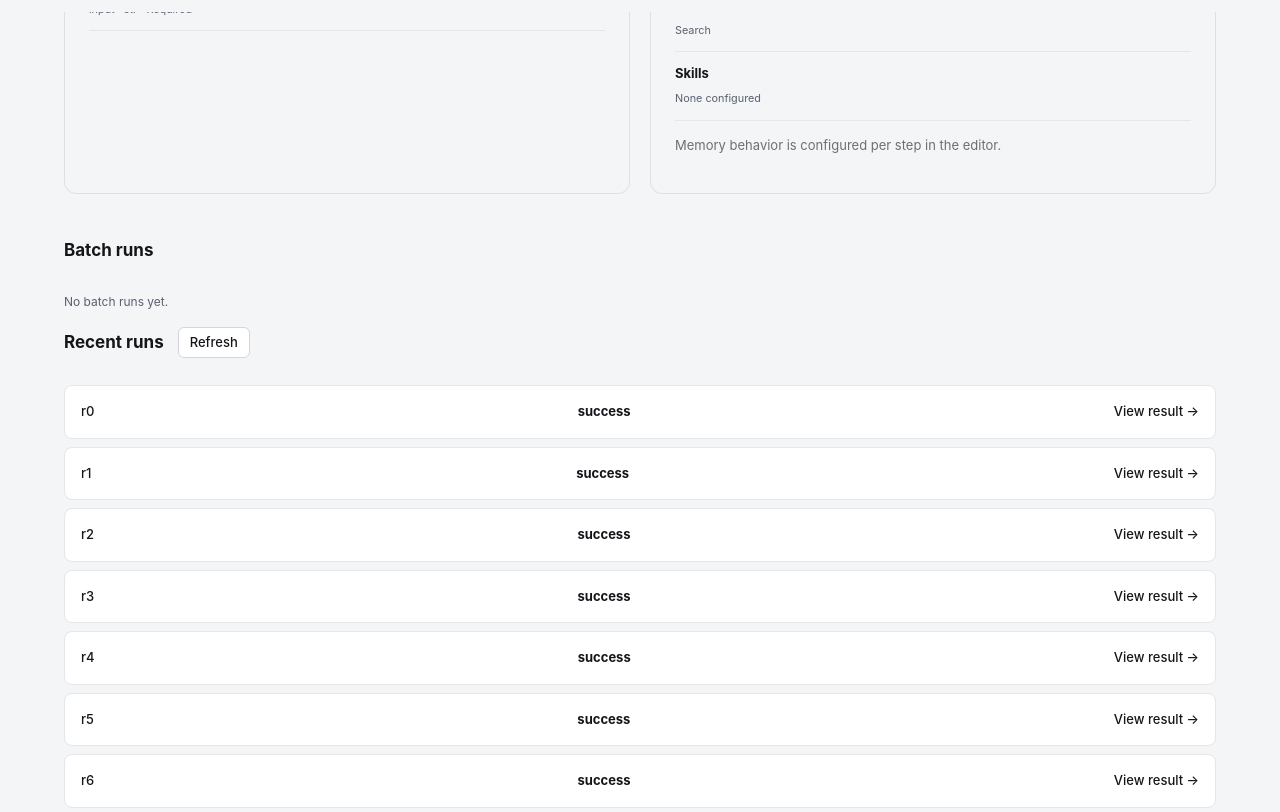
Test: loads more runs and searches all of them on the server
(page scrolled)
Click the 1st text "View result →" at (1156, 412), box [1114,402,1199,422]
(page scrolled)
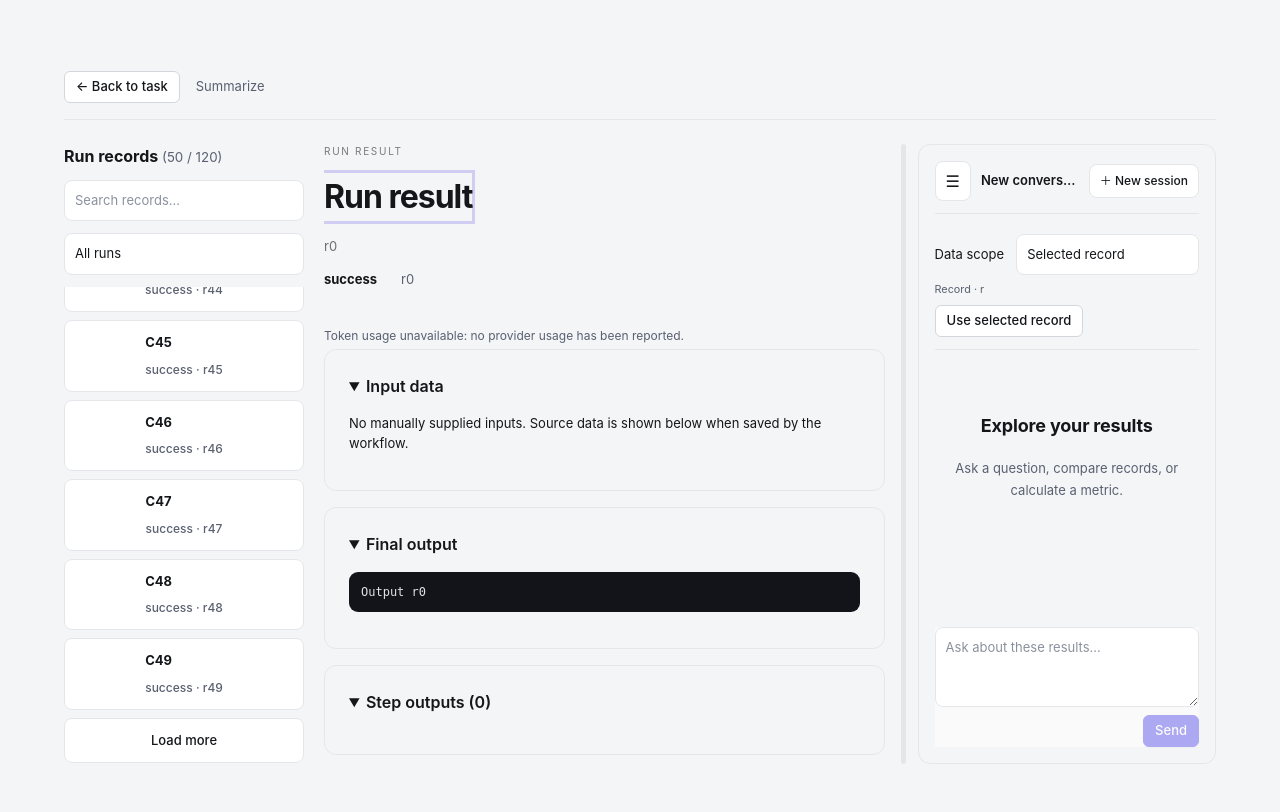
Result: the text "(50 / 120)" is shown at [162,148,222,164]
Click the button "Load more" at (184, 740), box [64,718,304,763]
(page scrolled)
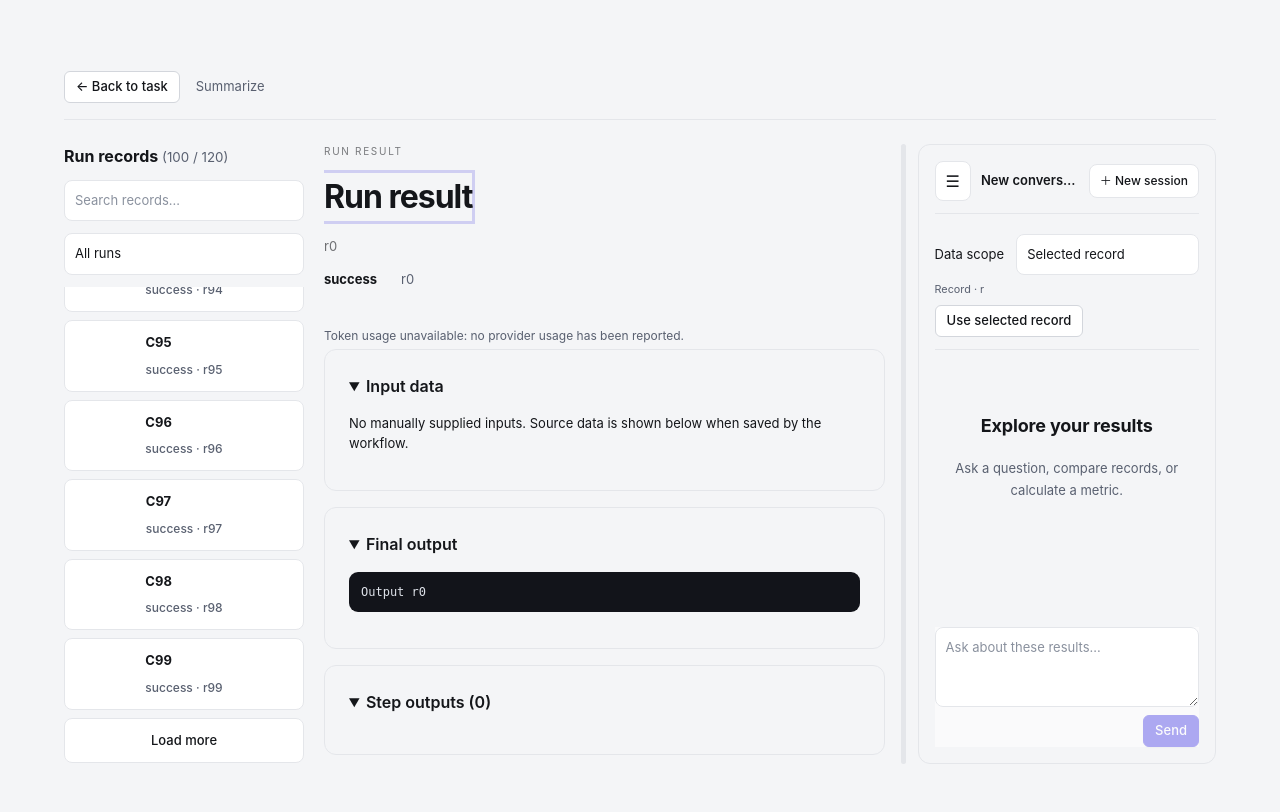
Result: the text "(100 / 120)" is shown at [162,148,228,164]
Click the button "Load more" at (184, 740), box [64,718,304,763]
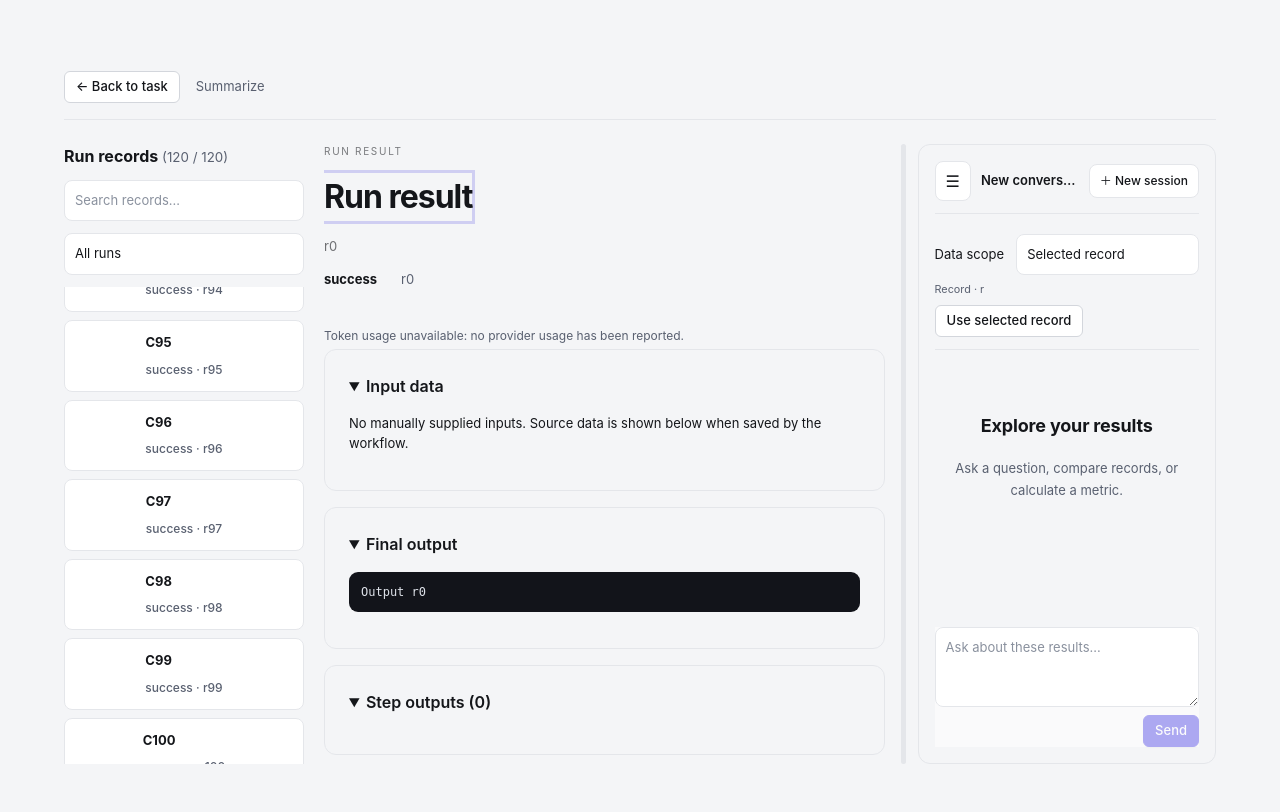
Result: the text "(120 / 120)" is shown at [162,148,228,164]
Result: the button "Load more" is gone
Not among the first page, found by the server all the same.
Type "zeta" into the field named "Search run records" at (184, 200), box [64,180,304,221]
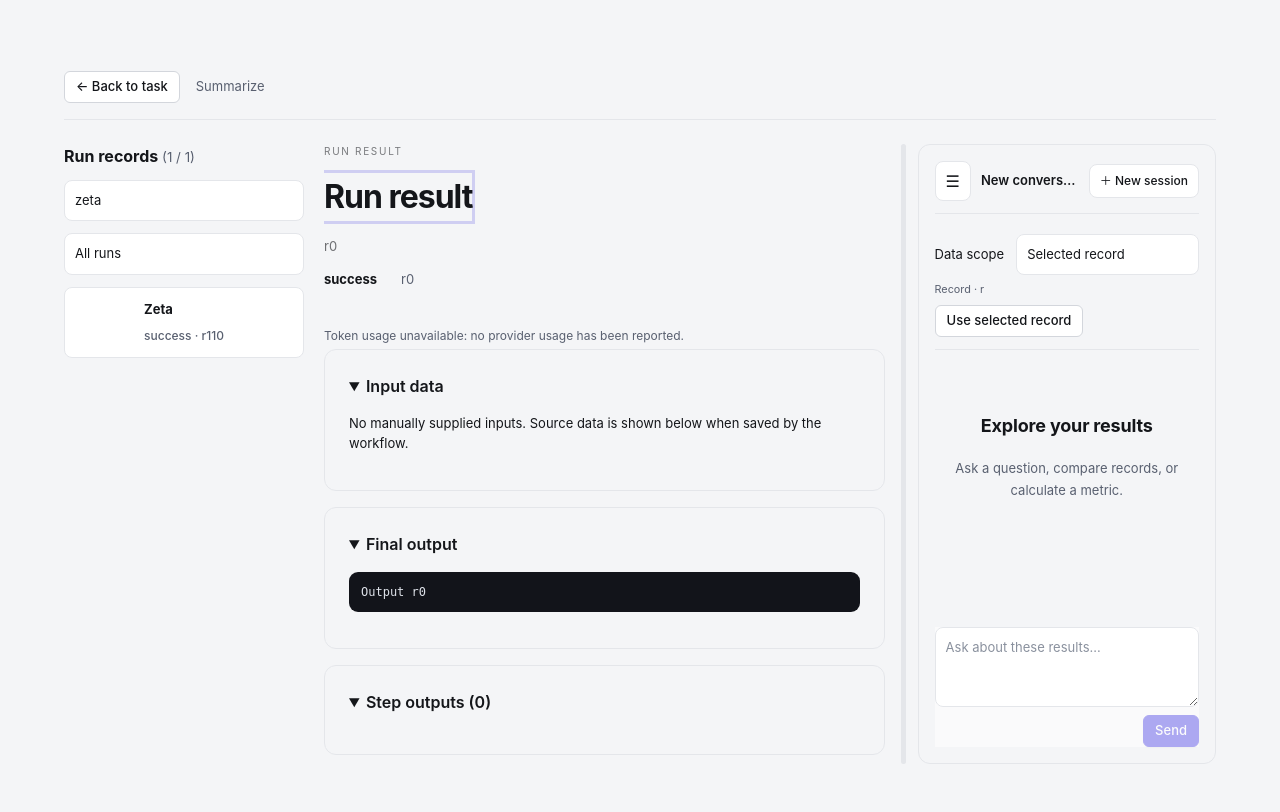
Result: the text "(1 / 1)" is shown at [162,148,195,164]
Result: the button "Zeta success · r110" is shown at [64,286,304,358]
